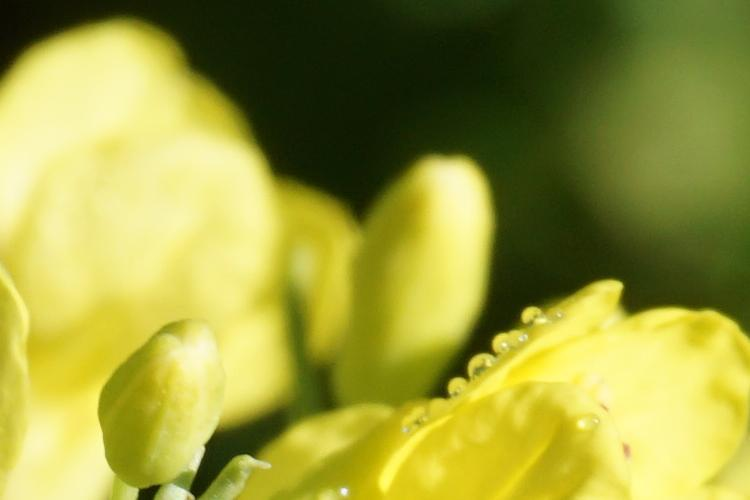bud: (359, 148, 505, 388), (58, 310, 240, 484)
yellow: (27, 28, 351, 387), (384, 309, 748, 490)
